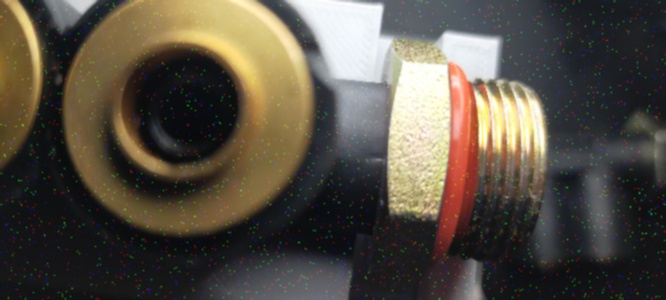bump: (304, 43, 353, 100)
white mark: (370, 152, 386, 167)
